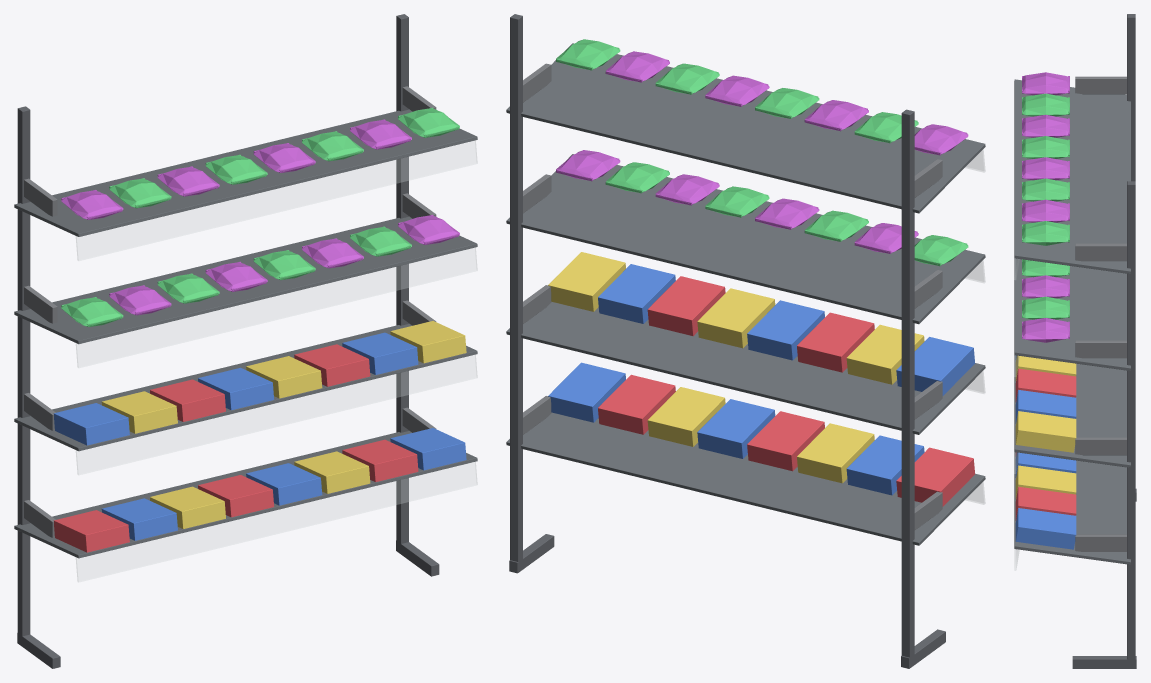
The model's file is candy-wall-gondola.glb.
The picture shows the model from 3 angles, left to right: view 1: azimuth 30°, elevation 25°; view 2: azimuth 150°, elevation 25°; view 3: azimuth 270°, elevation 25°; orthographic projection. The views are drawn at different scales.
Visible parts, largest first — view 1: GravityTray_2, GravityTray_3, RetainingLip_0, RetainingLip_2, RetainingLip_1, RetainingLip_3, WallStandard_0, GravityTray_1, GravityTray_0, WallStandard_1, CandyCarton_0_0, CandyCarton_1_0 (+36 smaller); view 2: GravityTray_3, GravityTray_2, GravityTray_0, GravityTray_1, WallStandard_0, WallStandard_1, CandyCarton_1_5, CandyCarton_1_6, CandyCarton_1_4, CandyCarton_0_2, CandyCarton_0_6, CandyCarton_0_4 (+28 smaller); view 3: GravityTray_3, GravityTray_2, GravityTray_0, GravityTray_1, WallStandard_1, CandyCarton_0_7, CandyCarton_1_7, CandyCarton_0_6, CandyCarton_1_6, CandyCarton_0_5, CandyCarton_1_5, WallStandard_0 (+20 smaller).
Boxes of the visible parts, x1,y1,x2,y2 form: GravityTray_2: (14,216,477,344); GravityTray_3: (14,109,477,236); RetainingLip_0: (76,462,477,582); RetainingLip_2: (76,247,477,367); RetainingLip_1: (76,355,477,474); RetainingLip_3: (76,140,477,260); WallStandard_0: (17,106,30,646); GravityTray_1: (14,323,477,451); GravityTray_0: (14,430,477,558); WallStandard_1: (396,14,408,553); CandyCarton_0_0: (53,510,129,552); CandyCarton_1_0: (53,403,129,445); GravityTray_3: (506,43,985,213); GravityTray_2: (506,154,985,324); GravityTray_0: (506,412,985,545); GravityTray_1: (506,301,985,434); WallStandard_0: (901,109,914,667); WallStandard_1: (510,14,522,572); CandyCarton_1_5: (647,276,725,336); CandyCarton_1_6: (598,264,675,323); CandyCarton_1_4: (697,288,775,348); CandyCarton_0_2: (797,423,874,483); CandyCarton_0_6: (598,374,675,434); CandyCarton_0_4: (697,399,775,458); GravityTray_3: (1014,79,1130,273); GravityTray_2: (1014,258,1130,370); GravityTray_0: (1014,452,1130,564); GravityTray_1: (1014,355,1130,467); WallStandard_1: (1127,181,1135,668); CandyCarton_0_7: (1015,508,1076,549); CandyCarton_1_7: (1015,411,1076,452); CandyCarton_0_6: (1015,486,1076,520); CandyCarton_1_6: (1015,390,1076,423); CandyCarton_0_5: (1015,465,1076,498); CandyCarton_1_5: (1015,368,1076,401); WallStandard_0: (1127,14,1135,181).
Size of the model in its own units: 3.9 by 5 by 1.15.
